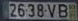2: (9, 2, 17, 17)
3: (26, 2, 35, 17)
6: (16, 2, 25, 17)
8: (36, 3, 45, 18)
B: (58, 3, 68, 17)
V: (46, 3, 57, 18)
